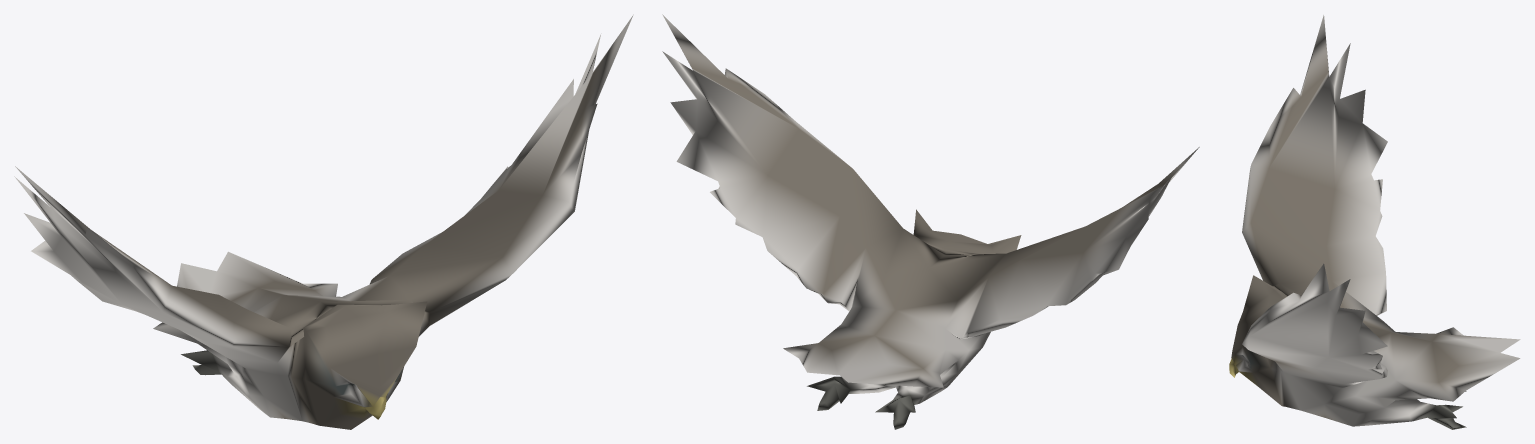
Rendered from owl.gltf.
The picture shows the model from 3 angles, left to right: view 1: azimuth 30°, elevation 25°; view 2: azimuth 150°, elevation 25°; view 3: azimuth 270°, elevation 25°; orthographic projection. The views are drawn at different scales.
Bounding box in the file's own units: 113 × 58.93 × 56.08.
